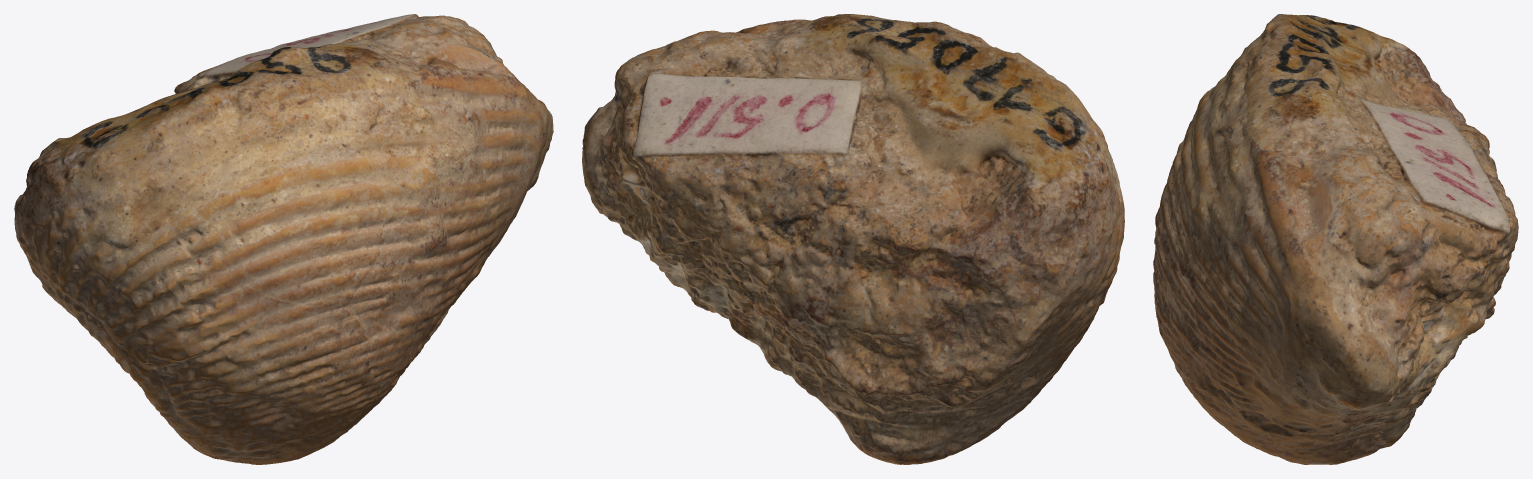
File: EWS0012738.glb
The picture shows the model from 3 angles, left to right: view 1: azimuth 30°, elevation 25°; view 2: azimuth 150°, elevation 25°; view 3: azimuth 270°, elevation 25°; orthographic projection. The views are drawn at different scales.
Parts seen in each view (by area): view 1: input; view 2: input; view 3: input.
Part boxes in pixels (x1,y1,x2,y2): input: (14, 14, 553, 464); input: (582, 14, 1124, 464); input: (1153, 14, 1518, 464).
Bounding box in the file's own units: 0.033 × 0.0244 × 0.0199.
Materials: 1 (1 with a texture image).
